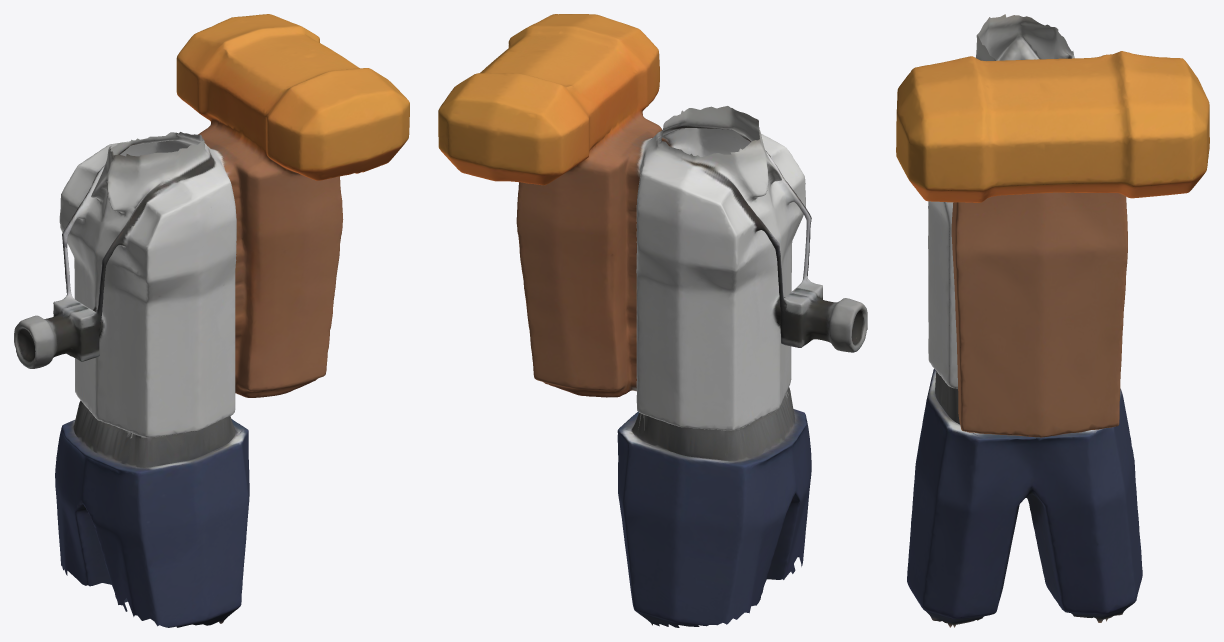
File: turistaTorso.obj
The picture shows the model from 3 angles, left to right: view 1: azimuth 30°, elevation 25°; view 2: azimuth 150°, elevation 25°; view 3: azimuth 270°, elevation 25°; orthographic projection. The views are drawn at different scales.
Parts seen in each view (by area): view 1: input.003; view 2: input.003; view 3: input.003.
Boxes of the visible parts, x1,y1,x2,y2 form: input.003: [14, 14, 409, 627]; input.003: [438, 14, 867, 627]; input.003: [896, 14, 1209, 627].
Bounding box in the file's own units: 0.0923 × 0.127 × 0.0579.
1 material, 1 textured.
